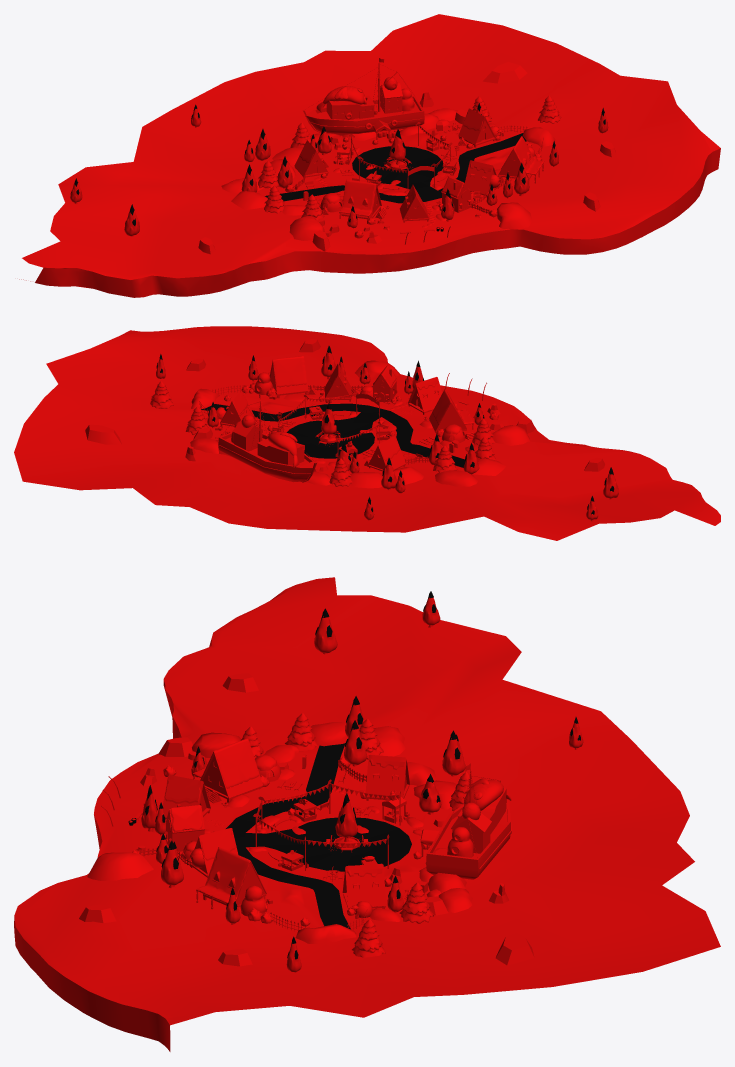
The model's file is Individual_SalmonSettlement_02.glb.
3 renders of one model, top to bottom at view 1: azimuth 30°, elevation 25°; view 2: azimuth 150°, elevation 25°; view 3: azimuth 270°, elevation 25°, orthographic. The views are drawn at different scales.
Visible parts, largest first — view 1: pasted__Object_Road1, pasted__Ship, pasted__pasted__Foliage_BigFir3, pasted__Building_TriangleHouse, pasted__Building_TriangleHouse5, pasted__Building_TriangleHouse6, pasted__Building_TriangleHouse3, pasted__SnowPatch24, pasted__Building_TriangleHouse4, pasted__Building_TriangleHouse2, pasted__Building_CoffeeShop, pasted__Fish (+5 smaller); view 2: pasted__Object_Road1, pasted__Ship, pasted__pasted__Foliage_BigFir3, pasted__Building_TriangleHouse5, pasted__Building_TriangleHouse, pasted__Building_TriangleHouse2, pasted__Building_TriangleHouse4, pasted__Building_TriangleHouse3, pasted__Building_TriangleHouse6, pasted__Building_CoffeeShop, pasted__SnowPatch22, pasted__SnowPatch15 (+7 smaller); view 3: pasted__Object_Road1, pasted__Ship, pasted__pasted__Foliage_BigFir3, pasted__Building_TriangleHouse, pasted__Building_TriangleHouse5, pasted__Building_TriangleHouse4, pasted__Building_TriangleHouse6, pasted__SnowPatch24, pasted__Building_CoffeeShop, pasted__Building_TriangleHouse2, pasted__Building_TriangleHouse3, pasted__pasted__Foliage_Bush16 (+4 smaller).
Boxes of the visible parts, x1,y1,x2,y2 form: pasted__Object_Road1: [19, 14, 720, 297]; pasted__Ship: [302, 58, 424, 135]; pasted__pasted__Foliage_BigFir3: [258, 95, 561, 220]; pasted__Building_TriangleHouse: [339, 179, 381, 224]; pasted__Building_TriangleHouse5: [498, 136, 544, 183]; pasted__Building_TriangleHouse6: [458, 108, 495, 147]; pasted__Building_TriangleHouse3: [465, 160, 499, 197]; pasted__SnowPatch24: [497, 202, 532, 229]; pasted__Building_TriangleHouse4: [294, 140, 328, 178]; pasted__Building_TriangleHouse2: [399, 184, 429, 222]; pasted__Building_CoffeeShop: [441, 176, 471, 212]; pasted__Fish: [316, 86, 367, 112]; pasted__Object_Road1: [14, 326, 720, 540]; pasted__Ship: [218, 394, 316, 482]; pasted__pasted__Foliage_BigFir3: [150, 381, 496, 486]; pasted__Building_TriangleHouse5: [267, 356, 308, 398]; pasted__Building_TriangleHouse: [429, 389, 473, 432]; pasted__Building_TriangleHouse2: [408, 377, 442, 414]; pasted__Building_TriangleHouse4: [368, 436, 405, 471]; pasted__Building_TriangleHouse3: [324, 363, 351, 401]; pasted__Building_TriangleHouse6: [220, 390, 254, 426]; pasted__Building_CoffeeShop: [372, 365, 397, 402]; pasted__SnowPatch22: [492, 425, 530, 445]; pasted__SnowPatch15: [435, 470, 478, 486]; pasted__Object_Road1: [14, 577, 720, 1051]; pasted__Ship: [425, 763, 511, 879]; pasted__pasted__Foliage_BigFir3: [240, 713, 472, 957]; pasted__Building_TriangleHouse: [192, 738, 263, 802]; pasted__Building_TriangleHouse5: [196, 847, 266, 909]; pasted__Building_TriangleHouse4: [365, 755, 409, 800]; pasted__Building_TriangleHouse6: [342, 863, 386, 909]; pasted__SnowPatch24: [87, 852, 153, 880]; pasted__Building_CoffeeShop: [165, 804, 204, 851]; pasted__Building_TriangleHouse2: [162, 775, 210, 818]; pasted__Building_TriangleHouse3: [189, 828, 238, 877]; pasted__pasted__Foliage_Bush16: [132, 756, 429, 926].
Bounding box in the file's own units: 141 × 18.73 × 92.4.
